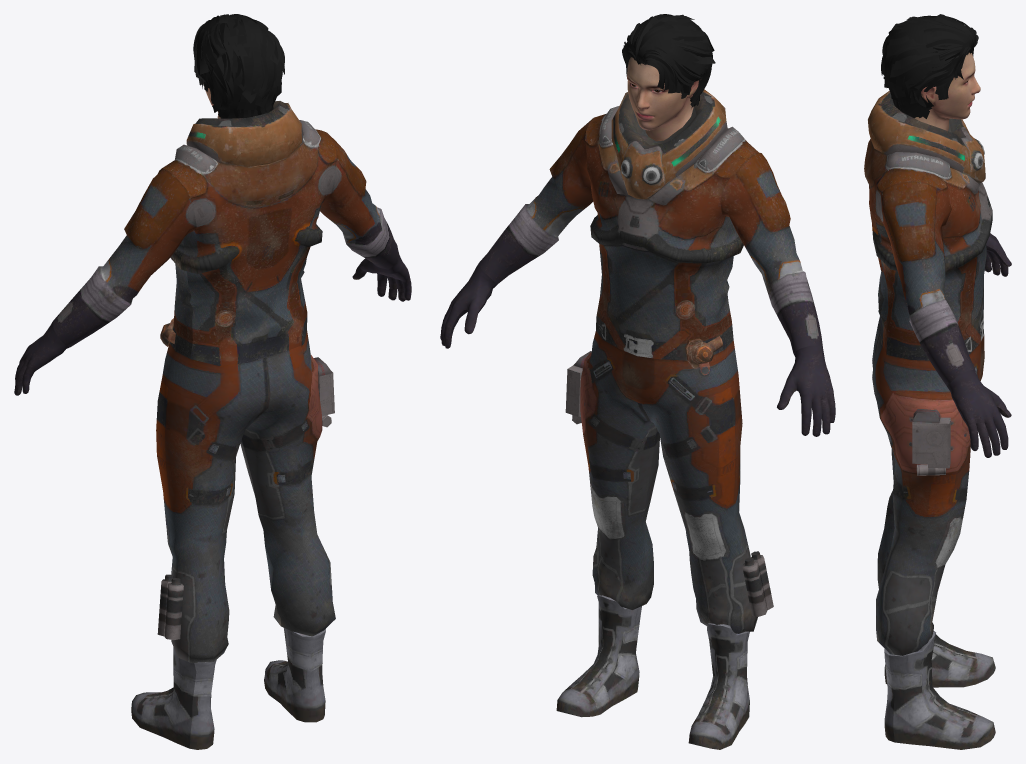
3 views of the same model, side by side, from view 1: azimuth 30°, elevation 25°; view 2: azimuth 150°, elevation 25°; view 3: azimuth 270°, elevation 25° (orthographic).
Parts seen in each view (by area): view 1: main body, legs, shoes, hairs; view 2: main body, legs, shoes, hairs, face; view 3: main body, legs, shoes, hairs, face.
Part boxes in pixels (x1,y1,x2,y2): main body: (14, 101, 411, 395); legs: (156, 331, 335, 662); shoes: (131, 628, 325, 749); hairs: (193, 14, 284, 118); main body: (440, 89, 835, 436); legs: (565, 331, 773, 633); shoes: (556, 595, 749, 749); hairs: (622, 14, 715, 108); face: (627, 57, 698, 141); main body: (864, 91, 1011, 457); legs: (872, 326, 984, 655); shoes: (884, 631, 995, 749); hairs: (881, 14, 978, 118); face: (914, 52, 980, 130).
Size of the model in its own units: 5540 by 9468 by 1838.
